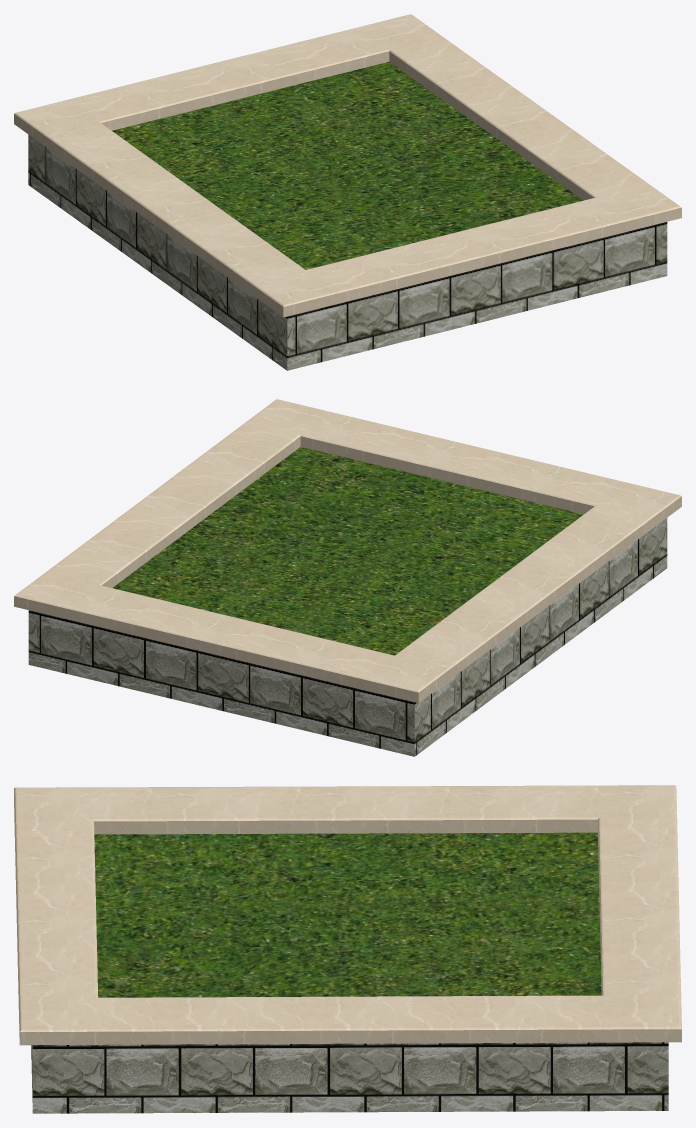
The model's file is shuchi.fbx.
3 renders of one model, top to bottom at view 1: azimuth 30°, elevation 25°; view 2: azimuth 150°, elevation 25°; view 3: azimuth 270°, elevation 25°, orthographic. The views are drawn at different scales.
Parts seen in each view (by area): view 1: Obj3d66-792778-691-517, Obj3d66-792778-608-740, Obj3d66-792778-690-923; view 2: Obj3d66-792778-691-517, Obj3d66-792778-608-740, Obj3d66-792778-690-923; view 3: Obj3d66-792778-691-517, Obj3d66-792778-608-740, Obj3d66-792778-690-923.
Boxes of the visible parts, left/top/right/bottom form: Obj3d66-792778-691-517: left=14, top=14, right=681, bottom=317; Obj3d66-792778-608-740: left=112, top=62, right=583, bottom=269; Obj3d66-792778-690-923: left=28, top=134, right=667, bottom=370; Obj3d66-792778-691-517: left=14, top=399, right=681, bottom=702; Obj3d66-792778-608-740: left=112, top=447, right=583, bottom=655; Obj3d66-792778-690-923: left=28, top=518, right=667, bottom=756; Obj3d66-792778-691-517: left=14, top=785, right=681, bottom=1045; Obj3d66-792778-608-740: left=94, top=832, right=601, bottom=997; Obj3d66-792778-690-923: left=31, top=1042, right=668, bottom=1113.
Bounding box in the file's own units: 34.39 × 5.76 × 39.42.
Materials: 3 (3 with a texture image).
